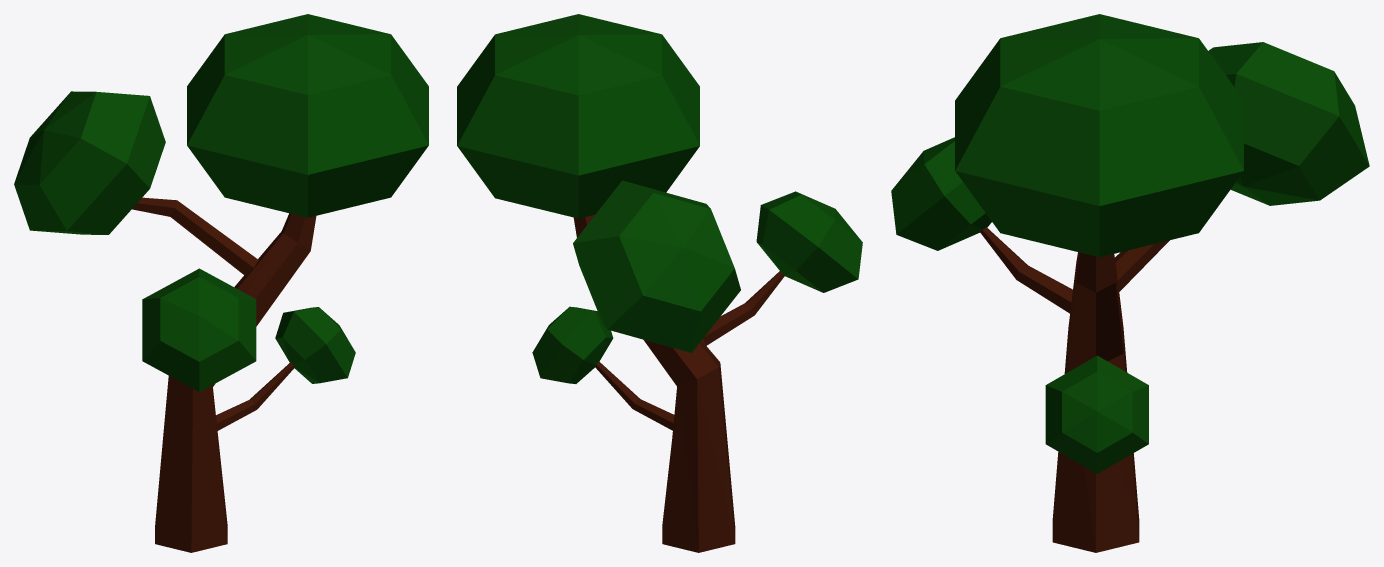
The model's file is tree3.FBX.
3 views of the same model, side by side, from view 1: azimuth 30°, elevation 25°; view 2: azimuth 150°, elevation 25°; view 3: azimuth 270°, elevation 25° (orthographic). The views are drawn at different scales.
Visible parts, largest first — view 1: Cylinder013; view 2: Cylinder013; view 3: Cylinder013.
Boxes of the visible parts, box(x1,y1,x2,y2) form: Cylinder013: box(14, 14, 428, 552); Cylinder013: box(457, 14, 862, 552); Cylinder013: box(891, 14, 1369, 552).
Bounding box in the file's own units: 108 × 142 × 109.
